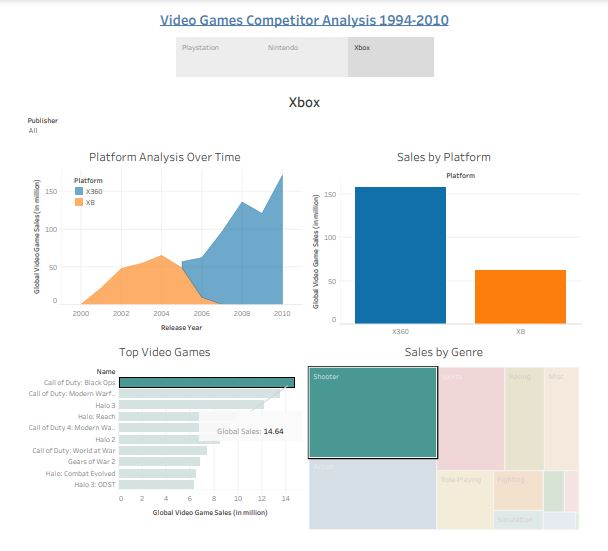

The page's visual inventory and layout, read from the dashboard file:
{"tool":"tableau","page":{"name":"Xbox","canvas":[1000,800],"ordinal":2},"visuals":[{"type":"title","box":[8,8,984,41]},{"type":"filter","title":"Platform Analysis Over Time - MSFT","param":"[federated.04p6wim1lbm8om1cbxjb90u16m3n].[none:Publisher:nk]","box":[8,49,984,52]},{"type":"worksheet","title":"Platform Analysis Over Time - MSFT","mark":"Area","rows":["Global_Sales"],"cols":["Release Year"],"box":[8,101,492,345.5]},{"type":"worksheet","title":"Sales by Platform - MSFT","mark":"Automatic","rows":["Global_Sales"],"cols":["Platform"],"box":[500,101,492,345.5]},{"type":"legend","title":"Platform Analysis Over Time - MSFT","param":"[federated.04p6wim1lbm8om1cbxjb90u16m3n].[none:Platform:nk]","box":[93,158,140,58]},{"type":"worksheet","title":"Top Video Games - MSFT","mark":"Automatic","rows":["Name"],"cols":["Global_Sales"],"box":[8,446.5,492,345.5]},{"type":"worksheet","title":"Sales by Genre - MSFT","mark":"Automatic","box":[500,446.5,492,345.5]}]}

Visuals, with their boxes on the page's 1000x800 design canvas (x1, y1, x2, y2). These are canvas units, not pixel positions in the 608x551 screenshot, which may show the page scaled, cropped or inside an application window:
title: bbox=(8, 8, 992, 49)
"Platform Analysis Over Time - MSFT" filter: bbox=(8, 49, 992, 101)
"Platform Analysis Over Time - MSFT" worksheet (Area marks): bbox=(8, 101, 500, 446)
"Sales by Platform - MSFT" worksheet: bbox=(500, 101, 992, 446)
"Platform Analysis Over Time - MSFT" legend: bbox=(93, 158, 233, 216)
"Top Video Games - MSFT" worksheet: bbox=(8, 446, 500, 792)
"Sales by Genre - MSFT" worksheet: bbox=(500, 446, 992, 792)
